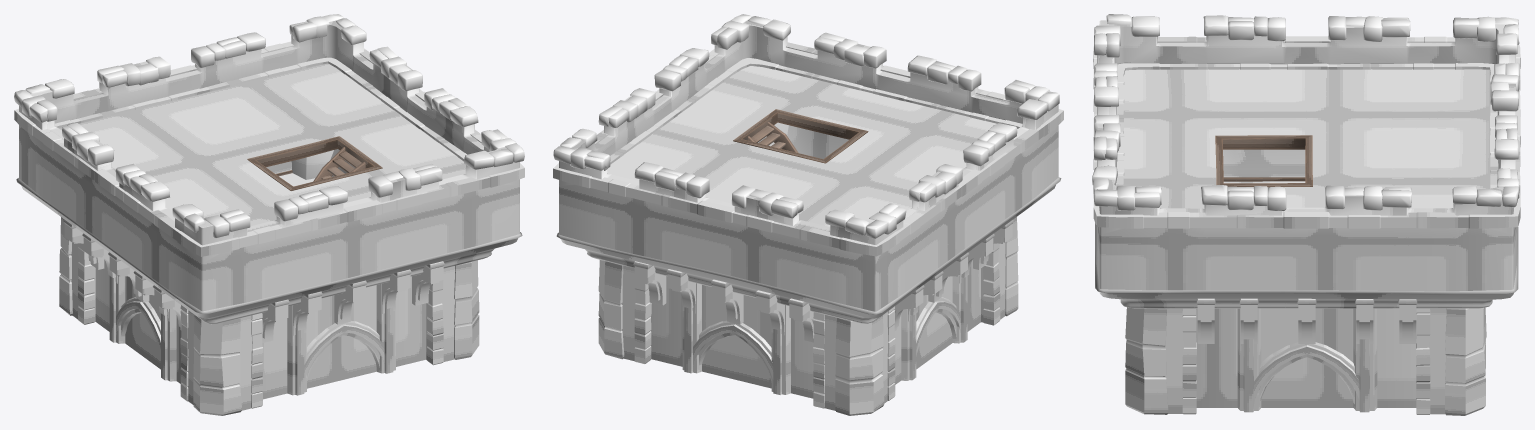
The model's file is SM_TowerF_Top_01.fbx.
3 views of the same model, side by side, from view 1: azimuth 30°, elevation 25°; view 2: azimuth 150°, elevation 25°; view 3: azimuth 270°, elevation 25° (orthographic). The views are drawn at different scales.
Parts seen in each view (by area): view 1: SM_TowerF_Top_01_LOD0; view 2: SM_TowerF_Top_01_LOD0; view 3: SM_TowerF_Top_01_LOD0.
Boxes of the visible parts, x1,y1,x2,y2 form: SM_TowerF_Top_01_LOD0: (14, 14, 524, 415); SM_TowerF_Top_01_LOD0: (553, 14, 1063, 415); SM_TowerF_Top_01_LOD0: (1092, 14, 1520, 415).
Bounding box in the file's own units: 1332 × 1331 × 823.
